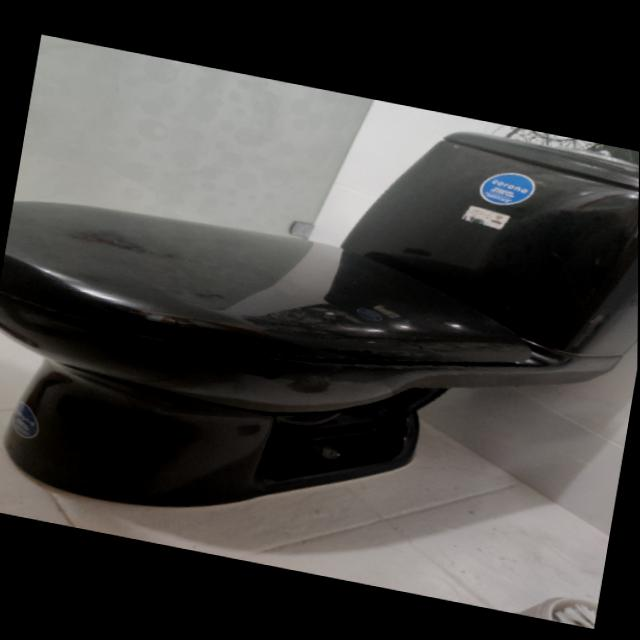toilet: (0, 37, 640, 612)
